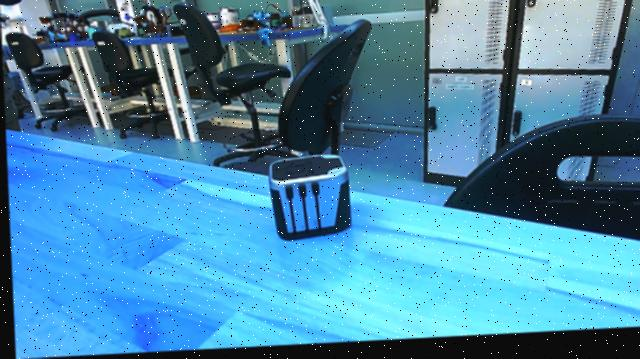adapter: (257, 155, 356, 247)
